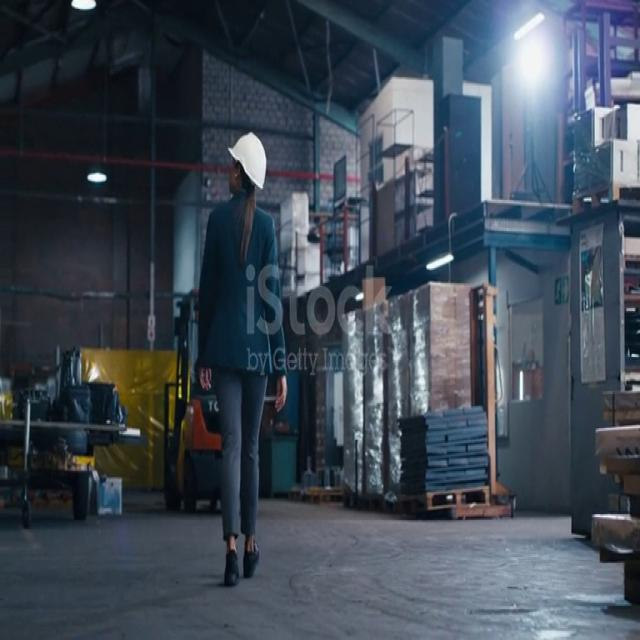capacete: (219, 109, 276, 200)
